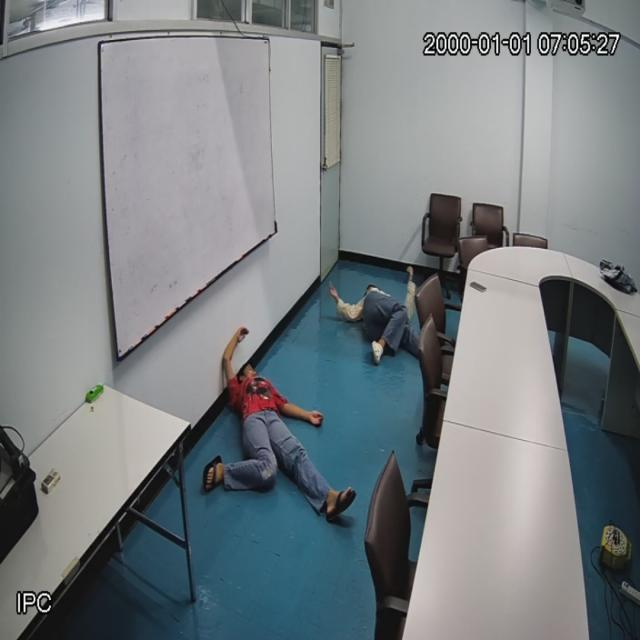fall: (207, 362, 339, 516), (329, 282, 415, 360)
